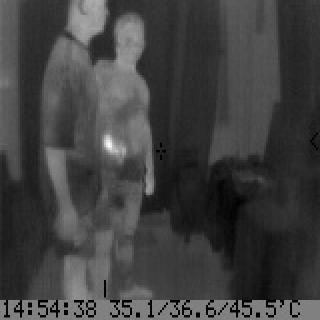Gun: (102, 132, 130, 172)
